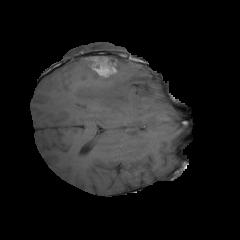glioma: (67, 57, 148, 112)
